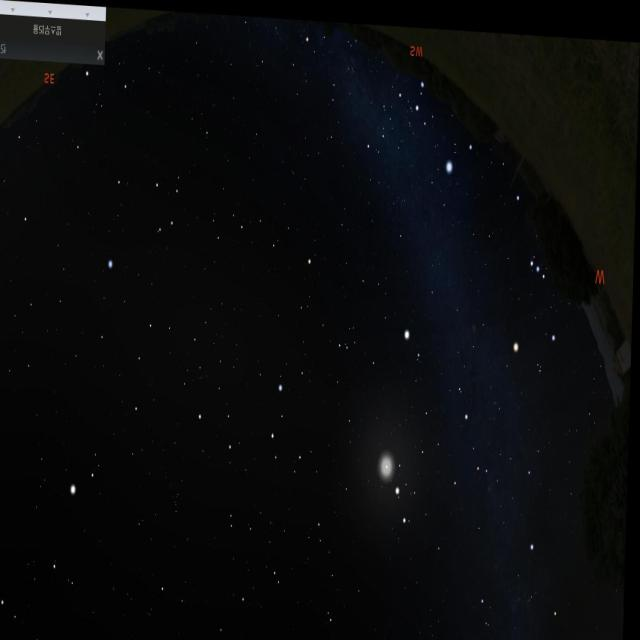bootes: (26, 476, 105, 640)
canis_major: (406, 66, 483, 182)
canis_minor: (392, 308, 437, 372)
gemini: (396, 396, 488, 530)
leo: (191, 358, 321, 496)
moon: (374, 418, 412, 482)
orion: (512, 170, 574, 348)
